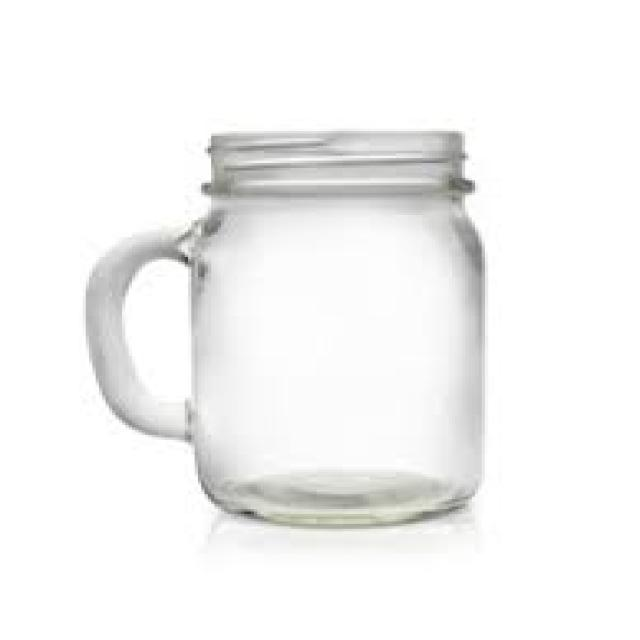glass: (83, 128, 482, 524)
